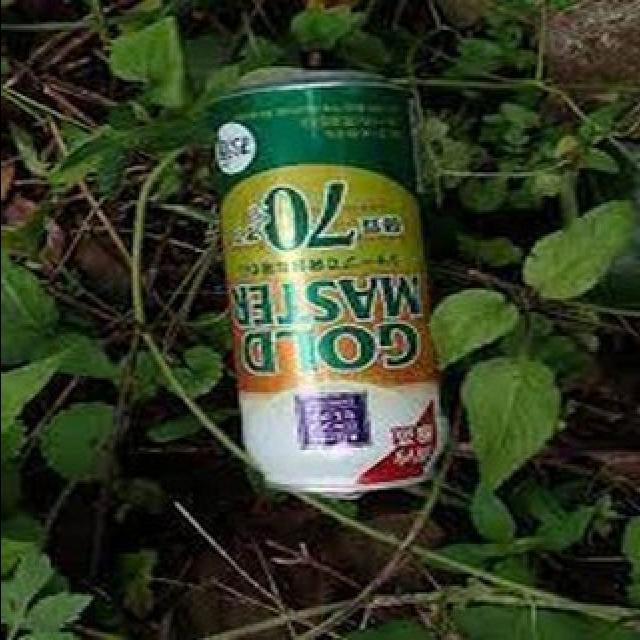can: (208, 65, 446, 494)
